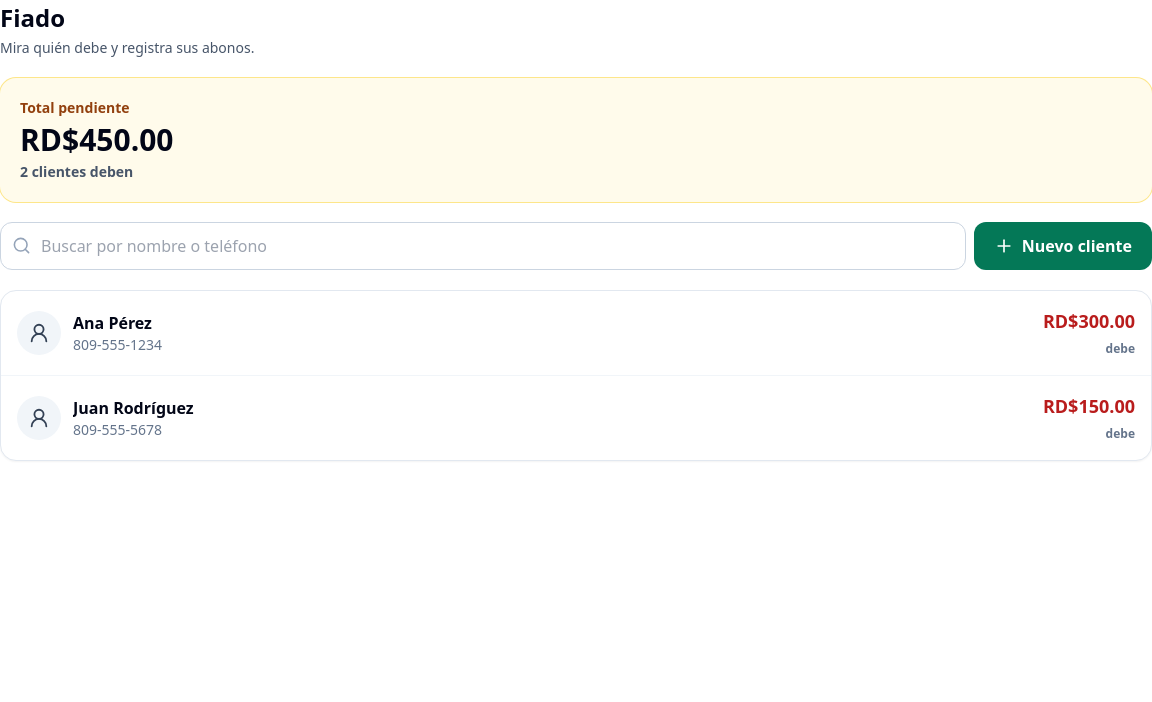
Scenario: CreditPanel › opens one customer and loads the complete credit history
Click the button "Ana Pérez 809-555-1234 RD$300.00 debe".
click(39, 333)  # box [1,291,1151,375]
(page scrolled)
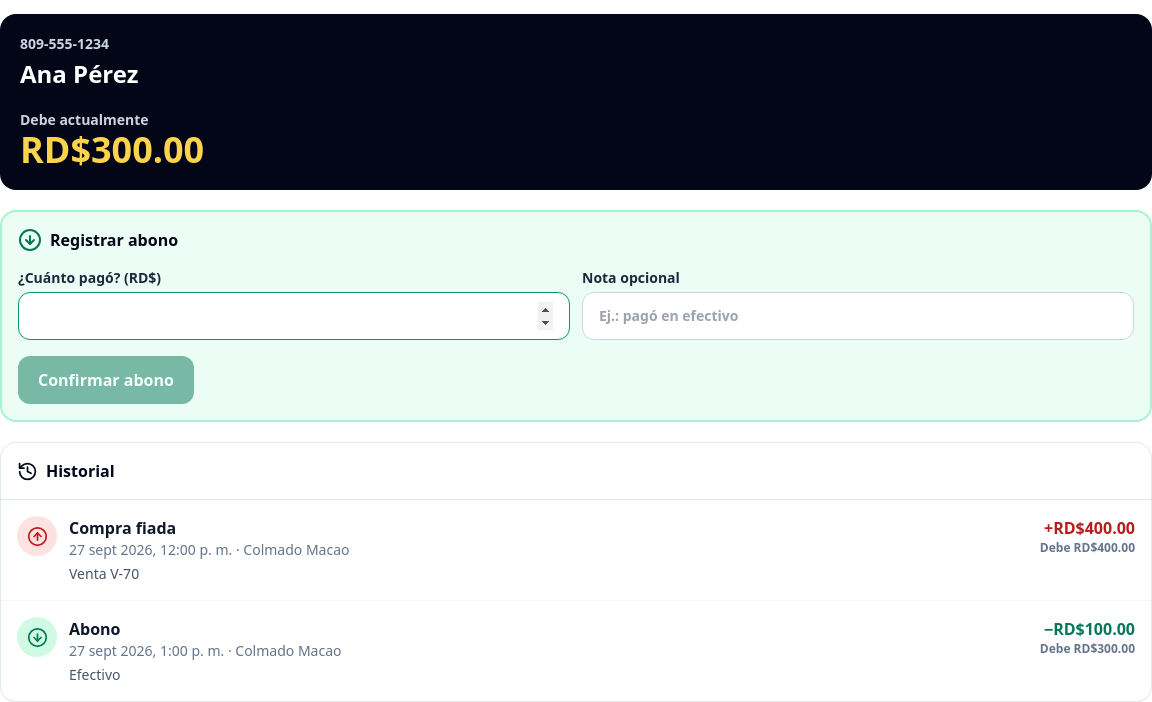
Expected: the text "Compra fiada" is shown, [69,517,176,539]
Expected: the text "Abono" is shown, [69,618,120,640]
Expected: the text "Venta V-70" is shown, [69,564,139,583]
